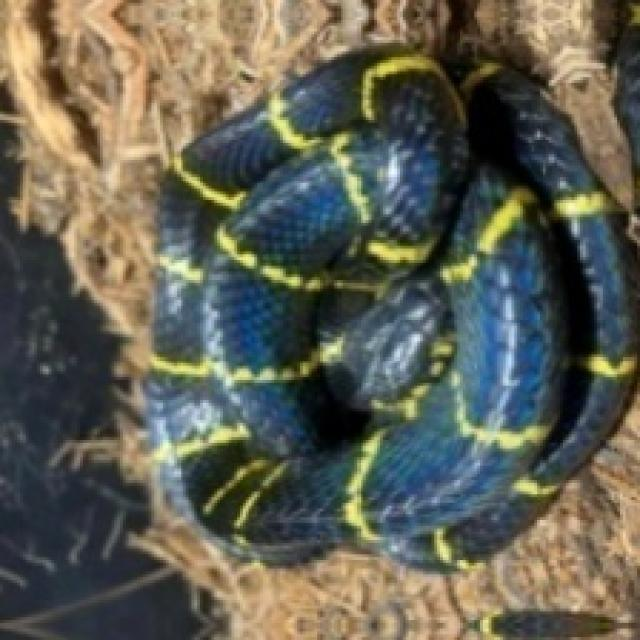mangrove cat snake: (146, 46, 634, 569)
